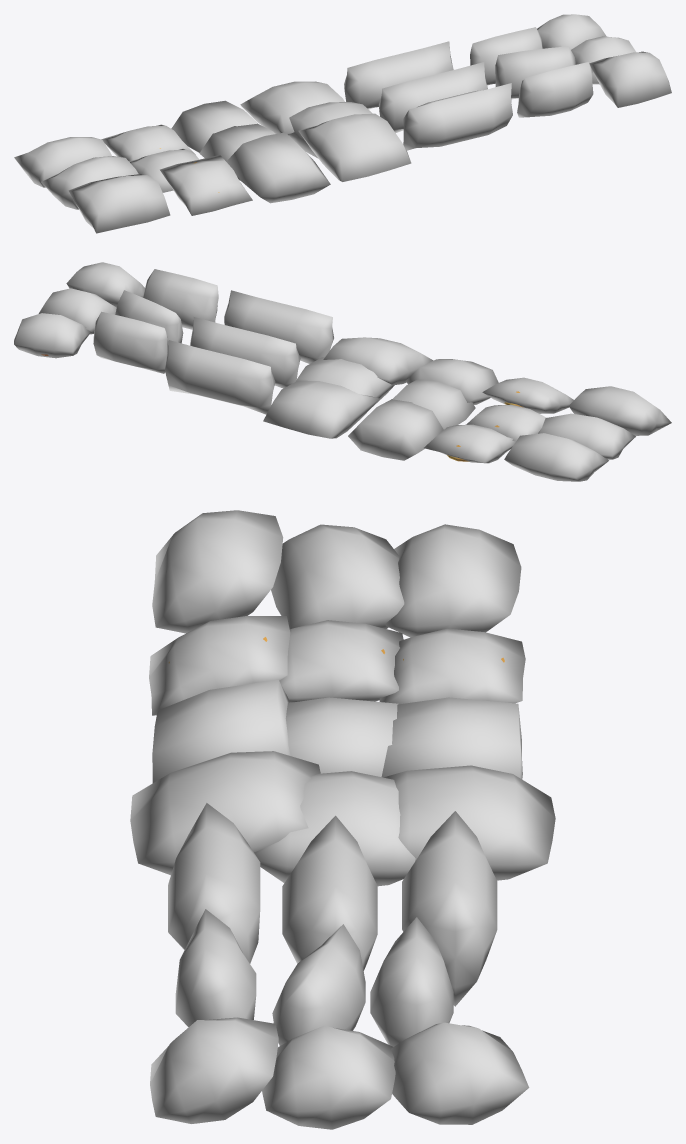
File: SM_breads_set_01.fbx
3 views of the same model, one above another, from view 1: azimuth 30°, elevation 25°; view 2: azimuth 150°, elevation 25°; view 3: azimuth 270°, elevation 25° (orthographic). The views are drawn at different scales.
Parts seen in each view (by area): view 1: Object32415; view 2: Object32415; view 3: Object32415.
Part boxes in pixels (box(x1,y1,x2,y2)): Object32415: box(14, 14, 671, 233); Object32415: box(14, 262, 671, 481); Object32415: box(130, 510, 555, 1129).
Size of the model in its own units: 175 by 17.07 by 55.43.
